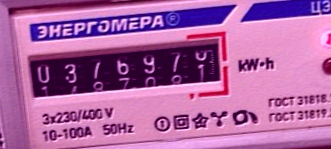0: (35, 61, 52, 85)
1: (194, 62, 208, 83)
3: (62, 61, 80, 85)
6: (114, 52, 131, 76)
7: (87, 56, 104, 80), (168, 49, 184, 74)
9: (140, 51, 157, 76)
screen: (18, 25, 235, 120)
